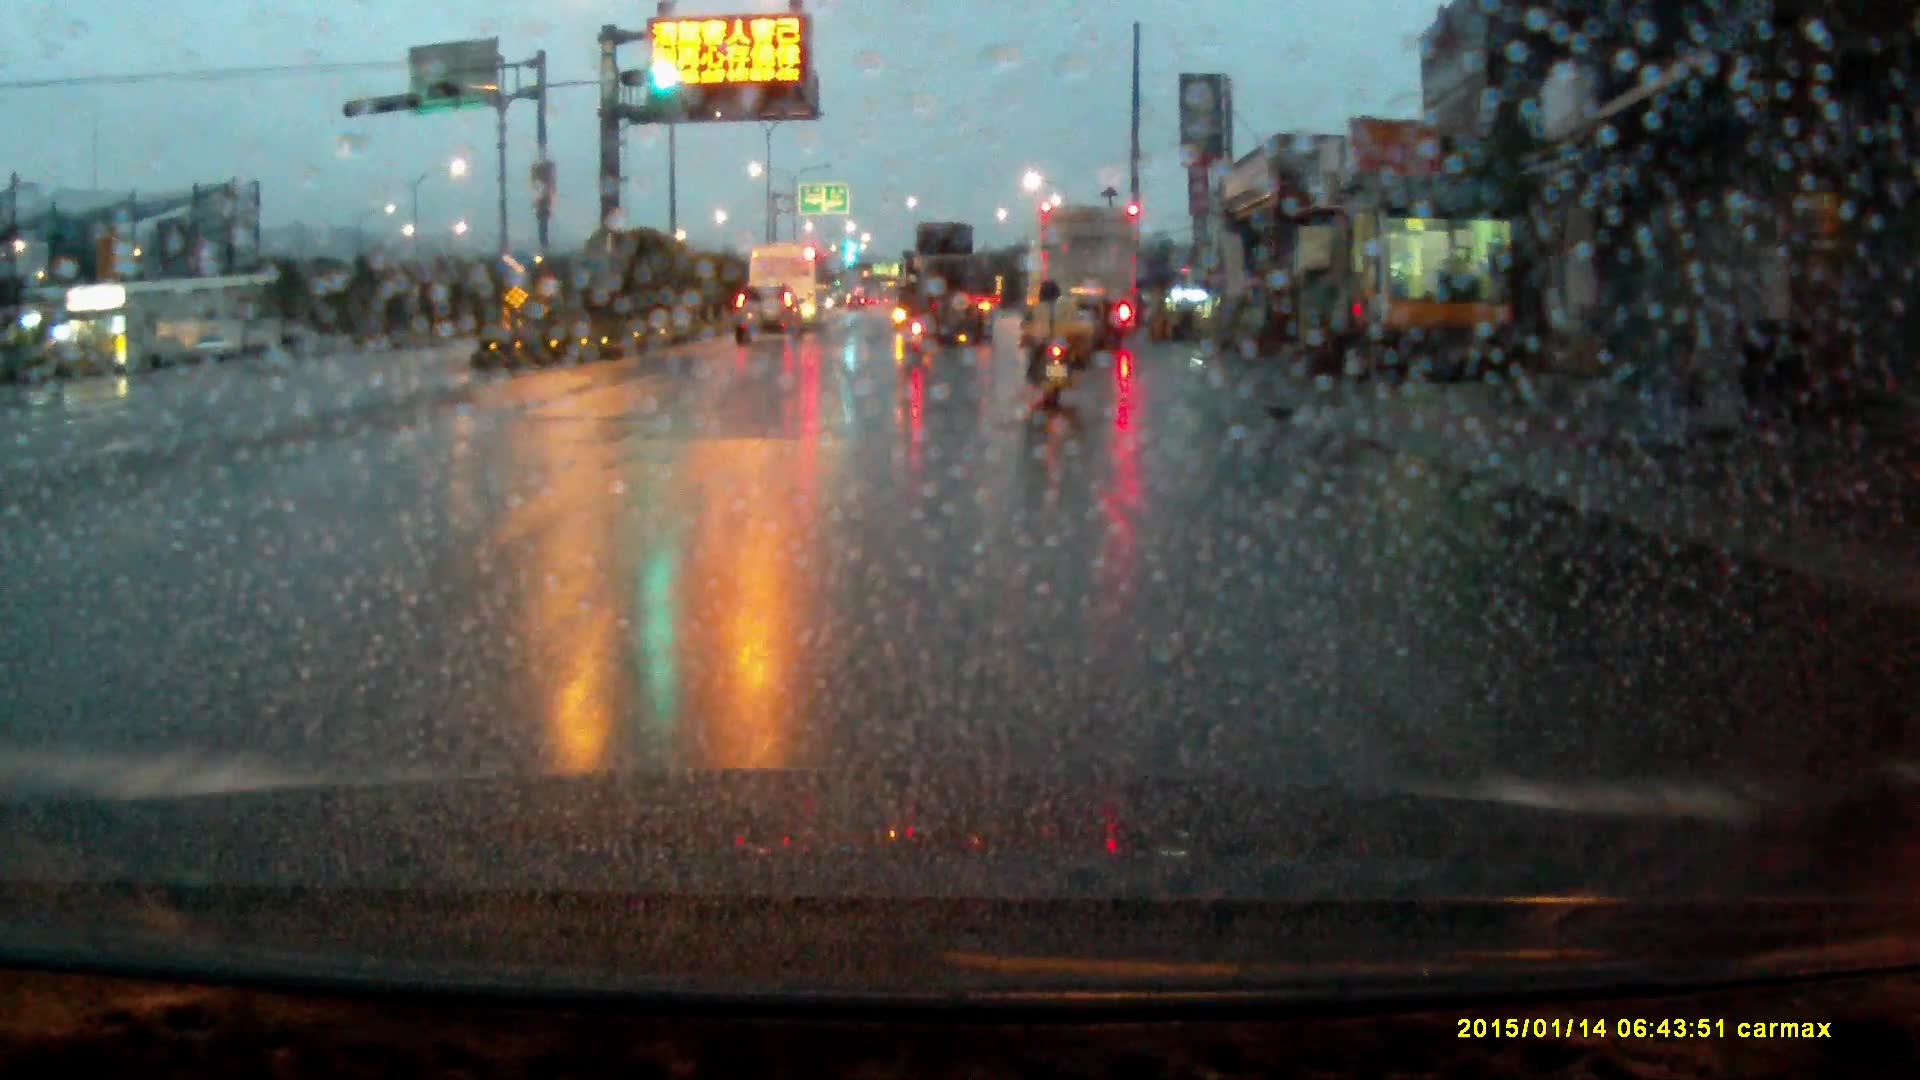rider: (1018, 280, 1088, 411), (898, 276, 935, 357)
vehicle: (1030, 201, 1136, 350), (899, 225, 998, 347), (757, 245, 831, 329), (732, 290, 806, 356)
